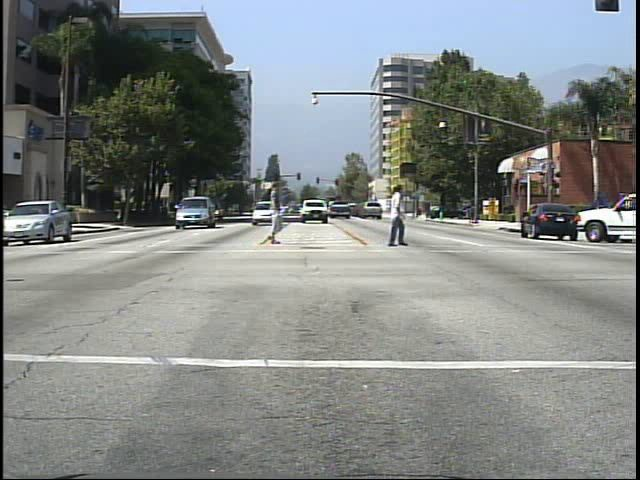person: (258, 176, 295, 250), (382, 176, 415, 254)
